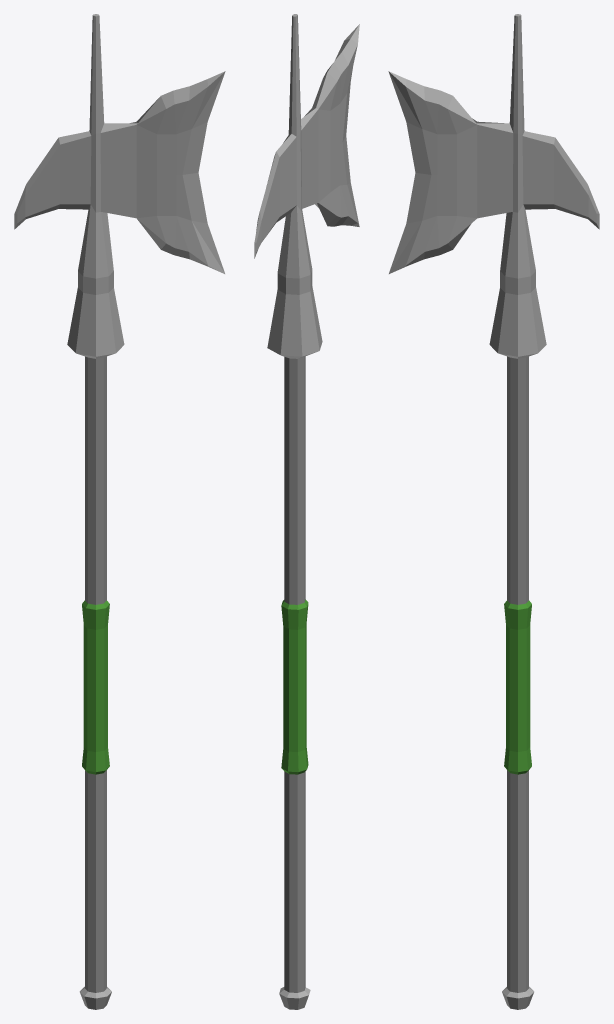
File: Halberd.fbx
3 views of the same model, side by side, from view 1: azimuth 90°, elevation 25°; view 2: azimuth 150°, elevation 25°; view 3: azimuth 270°, elevation 25° (orthographic).
Parts seen in each view (by area): view 1: Halberd; view 2: Halberd; view 3: Halberd.
Boxes of the visible parts, <box> form: Halberd: <box>14,14,225,1009</box>; Halberd: <box>254,14,359,1009</box>; Halberd: <box>388,14,599,1009</box>.
Bounding box in the file's own units: 10.67 × 204 × 39.41.
Materials: 1 (1 with a texture image).
